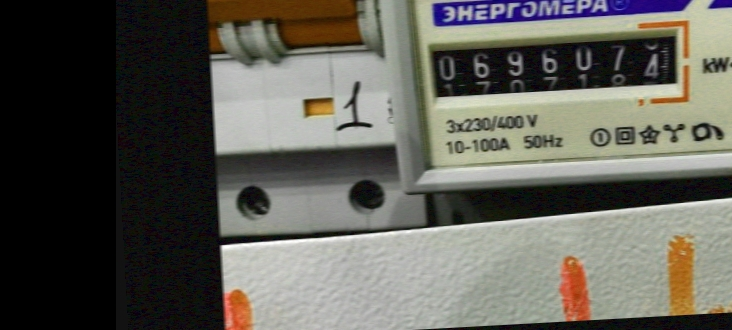0: (437, 53, 458, 83), (573, 44, 593, 72)
4: (641, 53, 661, 82)
6: (540, 46, 559, 75), (471, 52, 490, 80)
7: (608, 42, 628, 73)
9: (505, 50, 524, 79)
screen: (415, 17, 698, 119)
